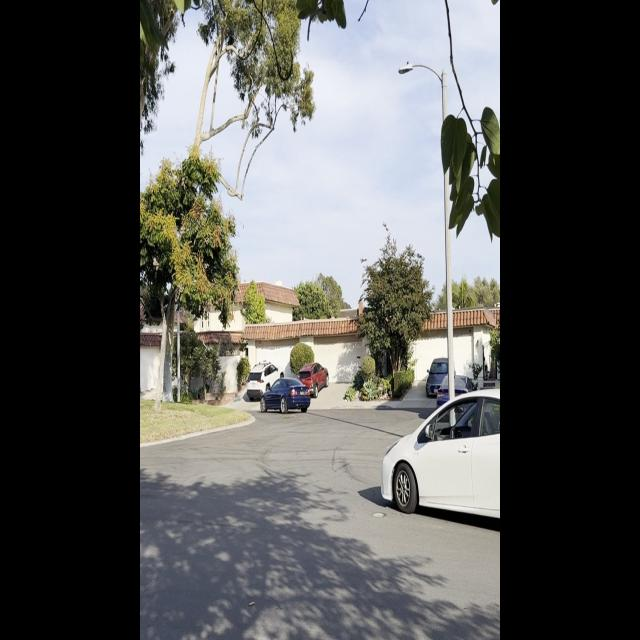Carbeetle: (258, 370, 315, 421)
Civilian: (387, 372, 501, 536), (436, 373, 478, 421), (427, 357, 463, 397), (245, 366, 283, 402), (293, 362, 327, 399)
